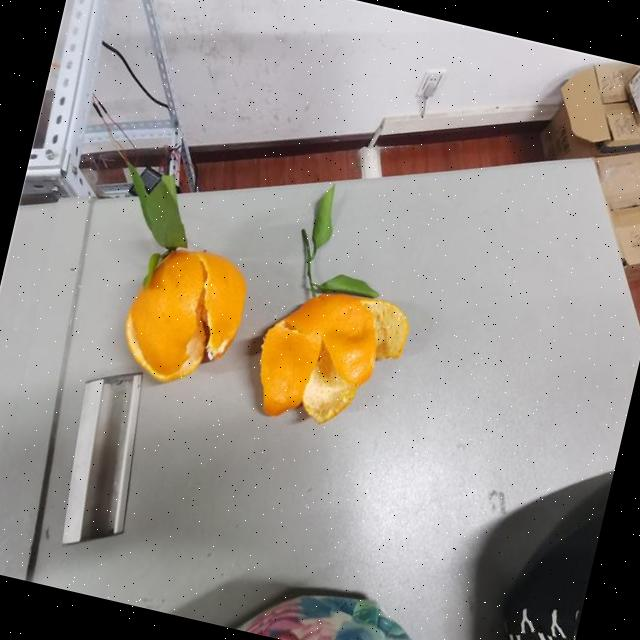orange-peel: (245, 273, 414, 442), (112, 234, 255, 396)
